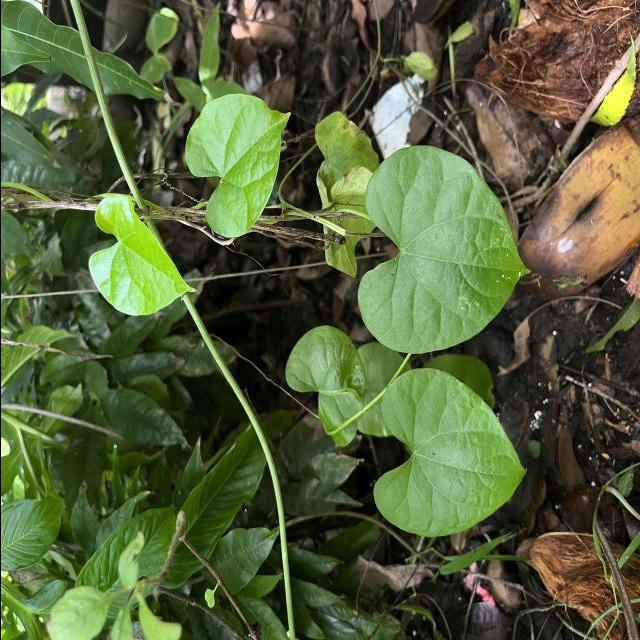Tinospora cordifolia: (353, 140, 532, 357), (370, 364, 530, 540), (182, 90, 294, 240), (84, 194, 199, 318)
